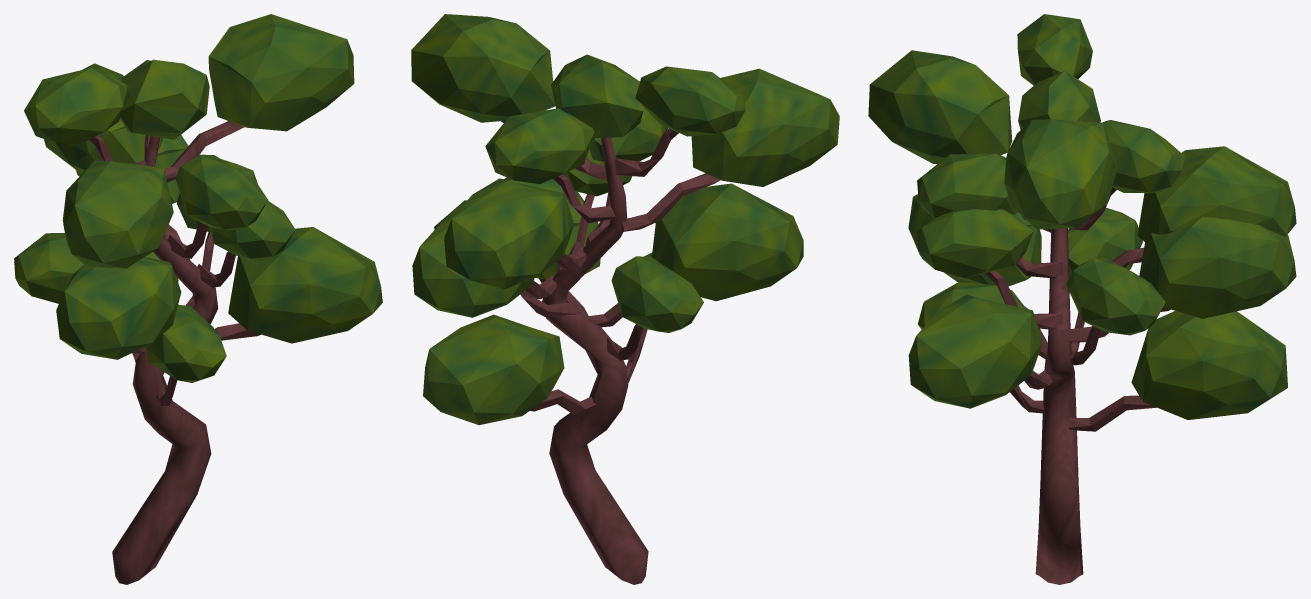
File: tree191_LOD.fbx
3 views of the same model, side by side, from view 1: azimuth 30°, elevation 25°; view 2: azimuth 150°, elevation 25°; view 3: azimuth 270°, elevation 25° (orthographic). The views are drawn at different scales.
Parts seen in each view (by area): view 1: tree191_LOD0; view 2: tree191_LOD0; view 3: tree191_LOD0.
Part boxes in pixels (x1,y1,x2,y2): tree191_LOD0: (14,14,382,584); tree191_LOD0: (411,14,839,584); tree191_LOD0: (868,14,1296,584).
Size of what is drawn, in the model's own units: 1036 by 1487 by 1075.
